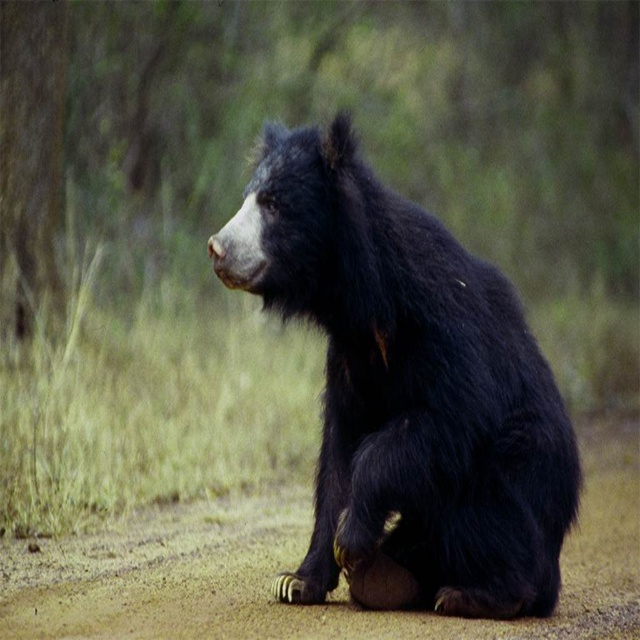Bear: (206, 103, 586, 622)
